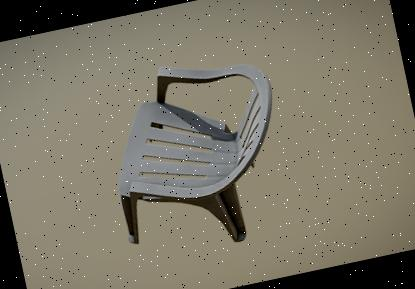chair: (84, 38, 306, 266)
